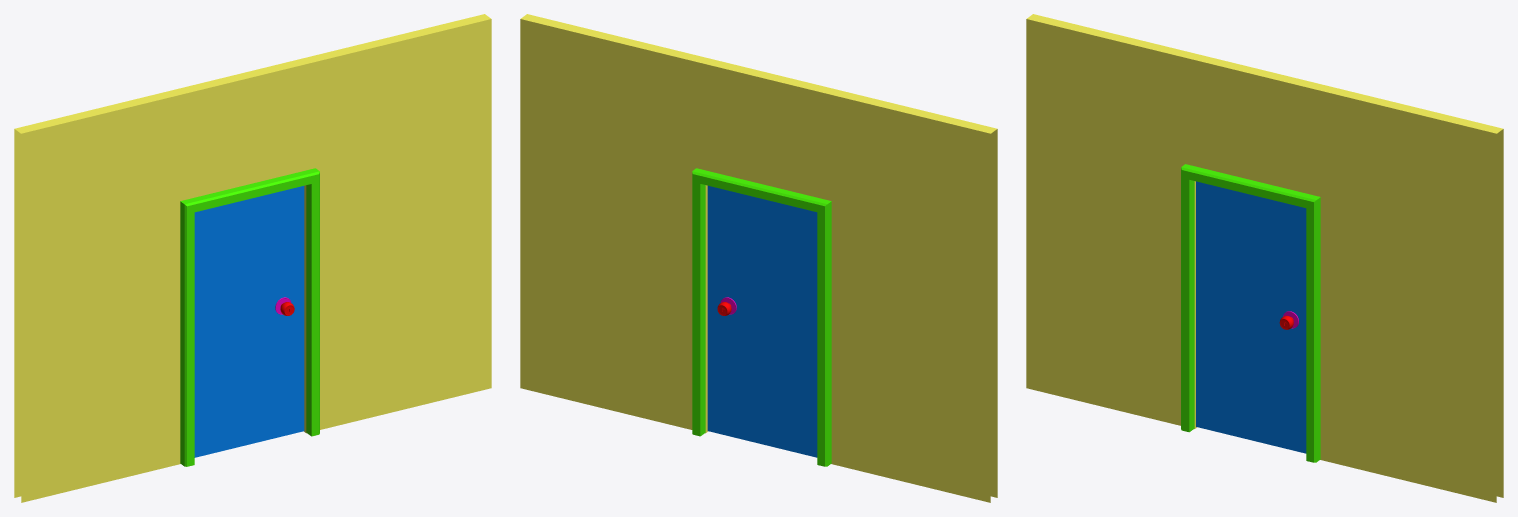
Rendered from staticMesh_module_WallB_Door.fbx.
The picture shows the model from 3 angles, left to right: view 1: azimuth 30°, elevation 25°; view 2: azimuth 150°, elevation 25°; view 3: azimuth 330°, elevation 25°; orthographic projection.
Parts seen in each view (by area): view 1: Wall_05, Door_01, Door_Plinth_02; view 2: Wall_05, Door_01, Door_Plinth_04; view 3: Wall_05, Door_01, Door_Plinth_02.
Part boxes in pixels (x1,y1,x2,y2): Wall_05: [14, 14, 491, 502]; Door_01: [194, 186, 304, 457]; Door_Plinth_02: [180, 168, 319, 466]; Wall_05: [520, 14, 997, 502]; Door_01: [707, 185, 817, 457]; Door_Plinth_04: [692, 168, 831, 466]; Wall_05: [1026, 14, 1503, 502]; Door_01: [1196, 181, 1306, 453]; Door_Plinth_02: [1181, 164, 1320, 462].
Size of the model in its own units: 400 by 300 by 25.32.
